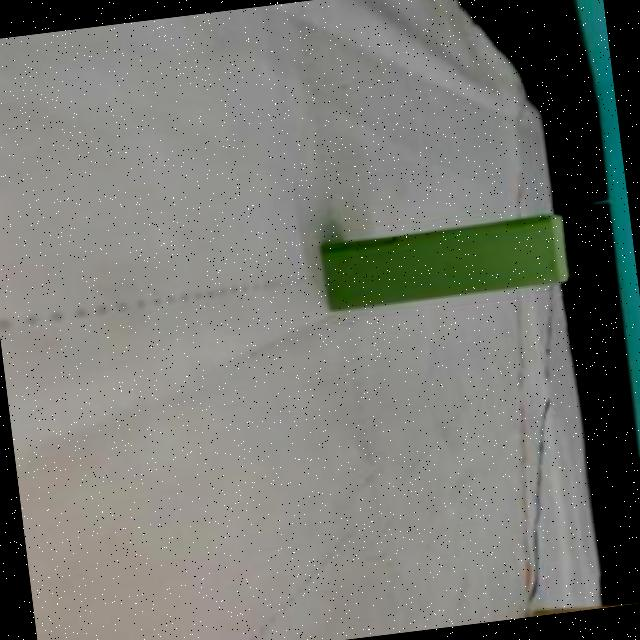greenbox: (321, 210, 574, 312)
